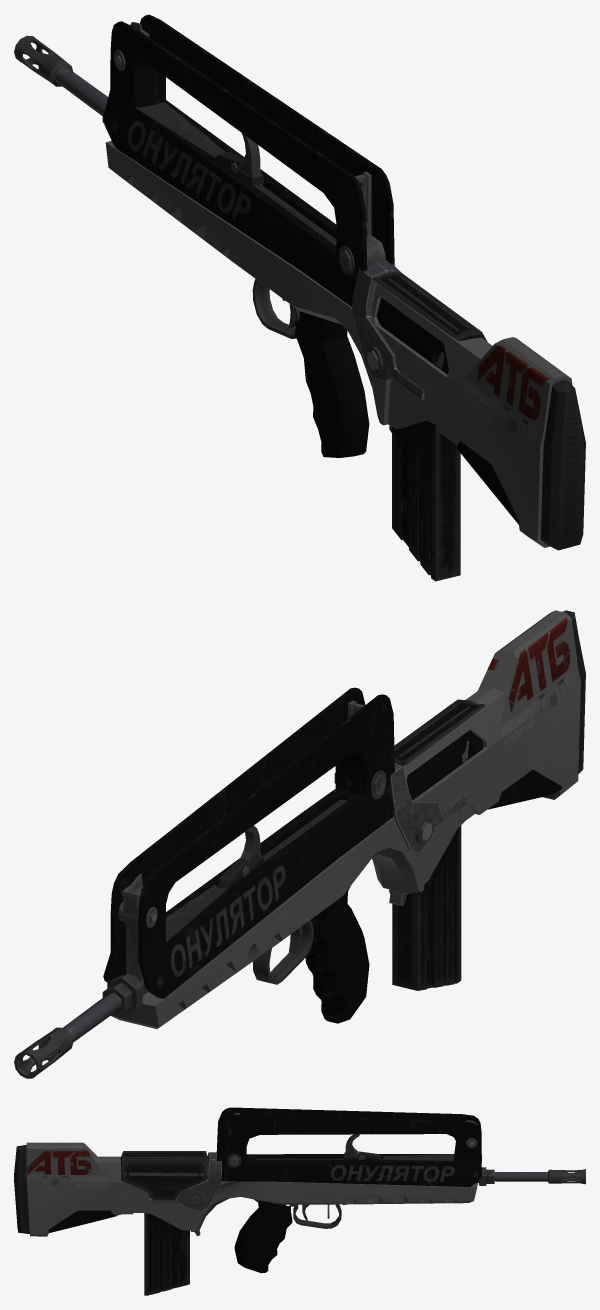
3 renders of one model, top to bottom at view 1: azimuth 30°, elevation 25°; view 2: azimuth 150°, elevation 25°; view 3: azimuth 270°, elevation 25°, orthographic. The views are drawn at different scales.
Parts seen in each view (by area): view 1: famas-f1-atb-skin; view 2: famas-f1-atb-skin; view 3: famas-f1-atb-skin.
Part boxes in pixels (<box>): famas-f1-atb-skin: <box>14,14,585,581</box>; famas-f1-atb-skin: <box>14,610,585,1078</box>; famas-f1-atb-skin: <box>14,1107,585,1295</box>.
Bounding box in the file's own units: 0.044 × 0.2656 × 0.7612.
1 material, 1 textured.
